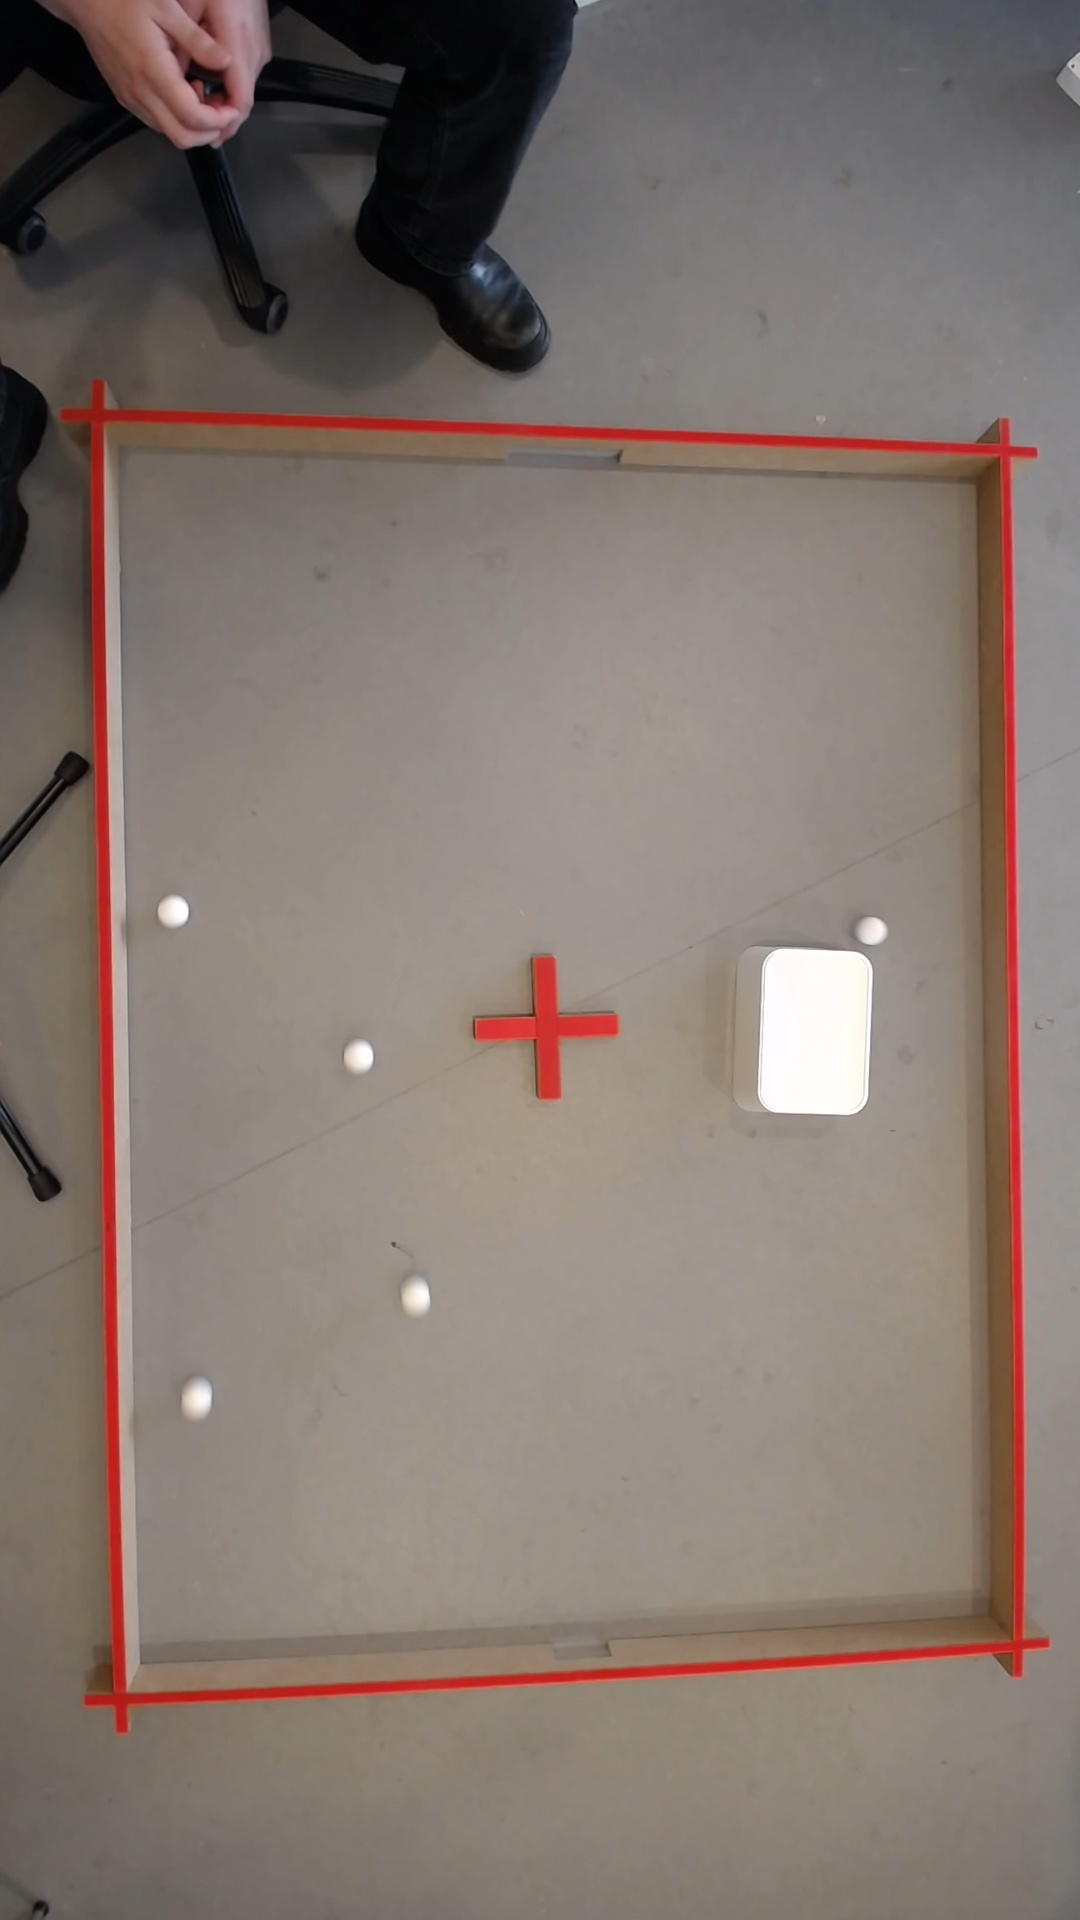balls: (343, 1038, 377, 1073), (182, 1379, 215, 1414), (402, 1279, 434, 1311), (161, 897, 187, 924)
car: (858, 914, 889, 948)
